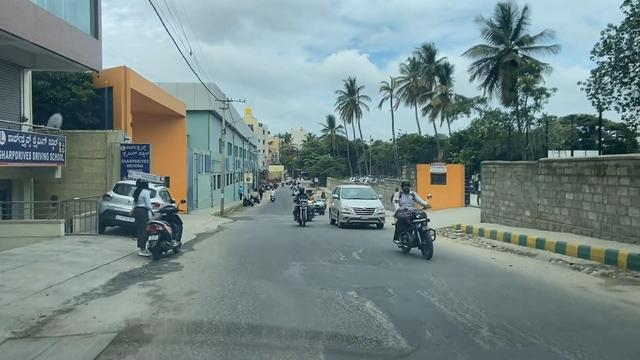RoadDamages: (326, 278, 475, 358)
